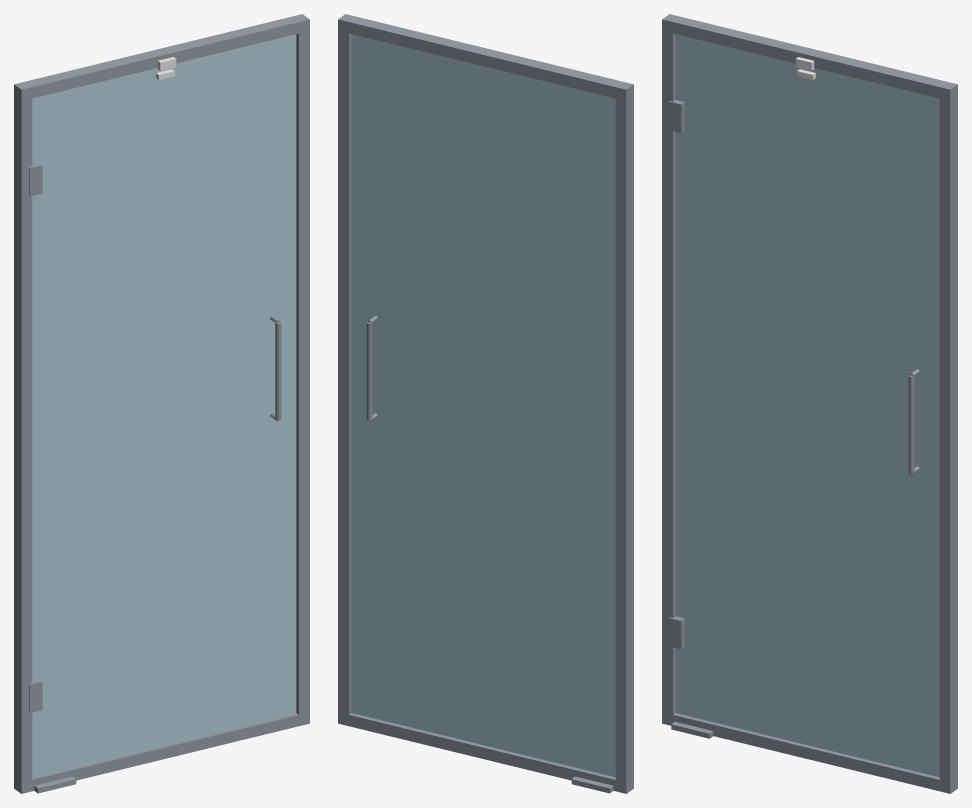
The model's file is door.glb.
3 views of the same model, side by side, from view 1: azimuth 30°, elevation 25°; view 2: azimuth 150°, elevation 25°; view 3: azimuth 330°, elevation 25° (orthographic).
Parts seen in each view (by area): view 1: glass_panel, merged_metal; view 2: glass_panel, merged_metal; view 3: glass_panel, merged_metal.
Part boxes in pixels (left/top/right/bottom): glass_panel: left=32, top=34, right=296, bottom=777; merged_metal: left=14, top=14, right=309, bottom=793; glass_panel: left=351, top=34, right=615, bottom=777; merged_metal: left=338, top=14, right=633, bottom=793; glass_panel: left=675, top=34, right=939, bottom=777; merged_metal: left=662, top=14, right=957, bottom=793.
Bounding box in the file's own units: 0.9 × 2.1 × 0.096.
